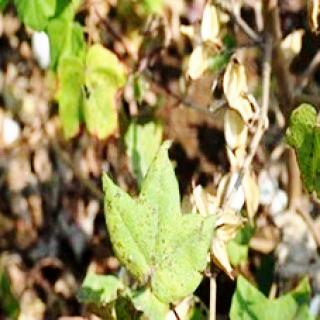leaf spot: (108, 158, 210, 292), (56, 47, 130, 143)
